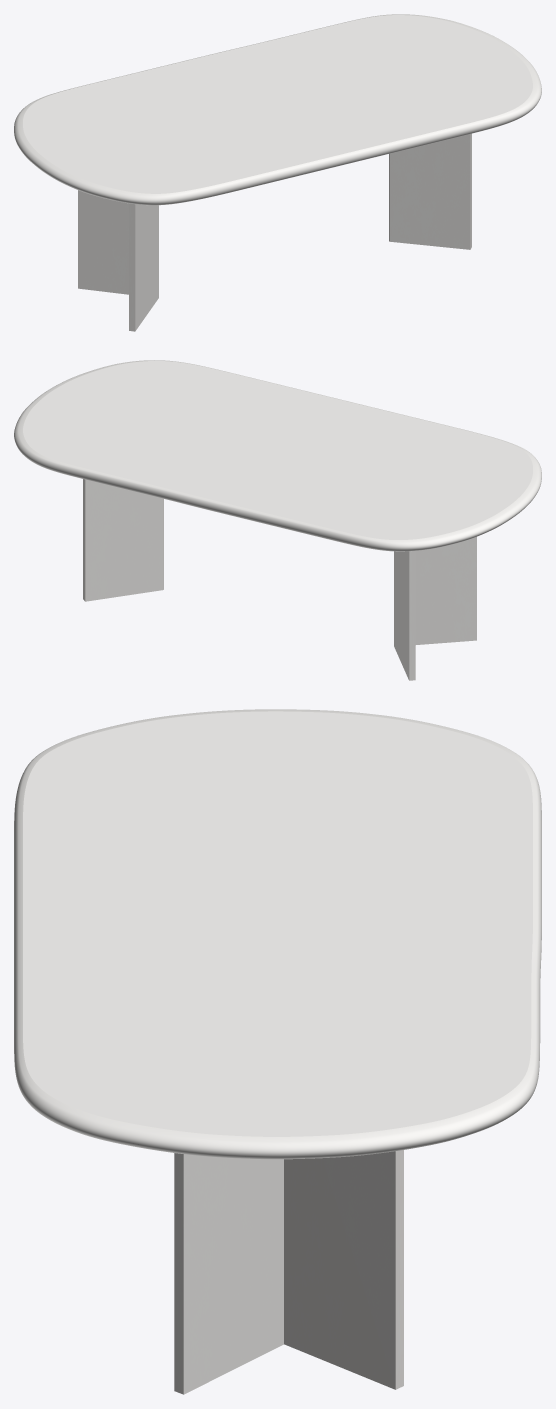
File: purewhite_oval_round_valleyv.glb
3 renders of one model, top to bottom at view 1: azimuth 30°, elevation 25°; view 2: azimuth 150°, elevation 25°; view 3: azimuth 270°, elevation 25°, orthographic. The views are drawn at different scales.
Parts seen in each view (by area): view 1: round_oval, valleyv; view 2: round_oval, valleyv; view 3: round_oval, valleyv.
Boxes of the visible parts, bbox=[...] form: round_oval: bbox=[14, 14, 541, 205]; valleyv: bbox=[78, 133, 471, 331]; round_oval: bbox=[14, 360, 541, 551]; valleyv: bbox=[83, 479, 476, 680]; round_oval: bbox=[14, 709, 541, 1159]; valleyv: bbox=[174, 1150, 403, 1394].
Bounding box in the file's own units: 7.5 × 2.5 × 3.8.
Materials: 1 (1 with a texture image).
